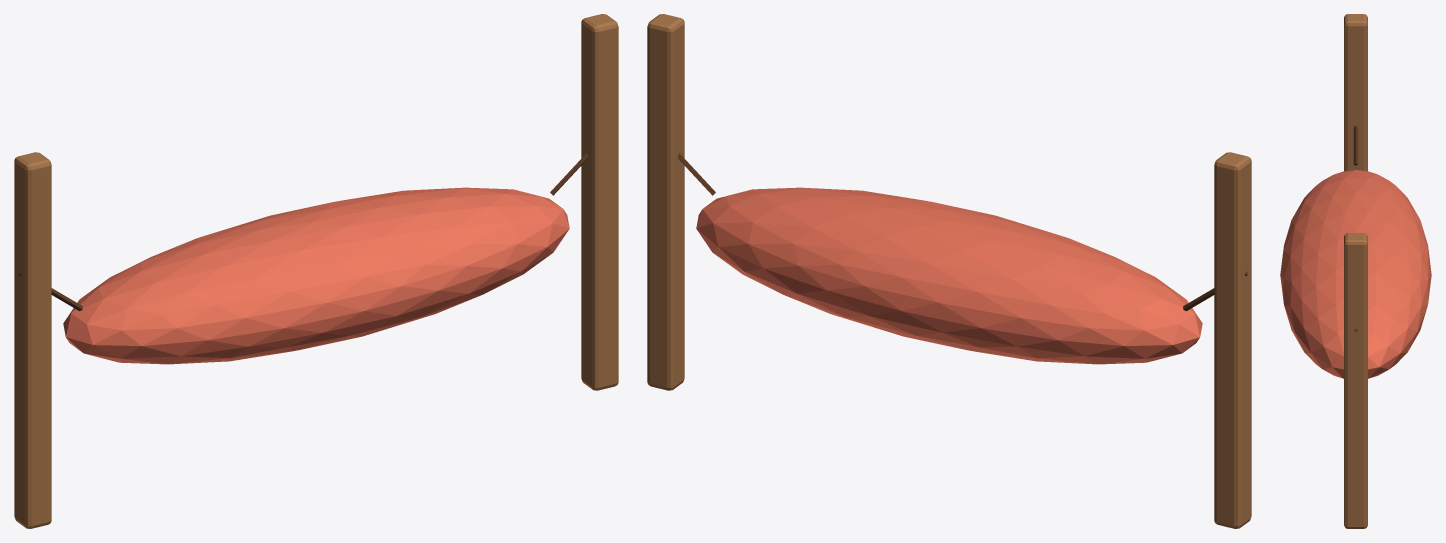
File: vong.glb
3 views of the same model, side by side, from view 1: azimuth 30°, elevation 25°; view 2: azimuth 150°, elevation 25°; view 3: azimuth 270°, elevation 25° (orthographic). The views are drawn at different scales.
Parts seen in each view (by area): view 1: vong-2, vong-0, vong-1; view 2: vong-2, vong-0, vong-1; view 3: vong-2, vong-1, vong-0, vong-3.
Boxes of the visible parts, x1,y1,x2,y2 form: vong-2: [63, 187, 569, 364]; vong-0: [14, 152, 51, 528]; vong-1: [581, 14, 618, 390]; vong-2: [696, 187, 1202, 364]; vong-0: [1214, 152, 1251, 528]; vong-1: [647, 14, 684, 390]; vong-2: [1280, 170, 1431, 378]; vong-1: [1344, 233, 1367, 528]; vong-0: [1344, 14, 1367, 171]; vong-3: [1353, 125, 1358, 165].
Size of the model in its own units: 2.74 by 1.6 by 0.76.
